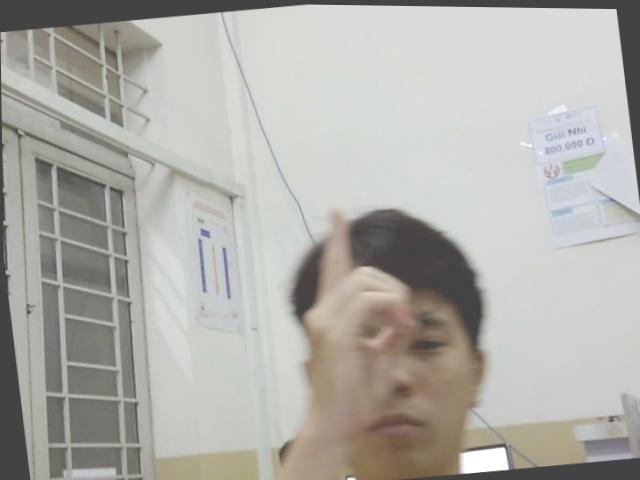D: (288, 198, 424, 421)
